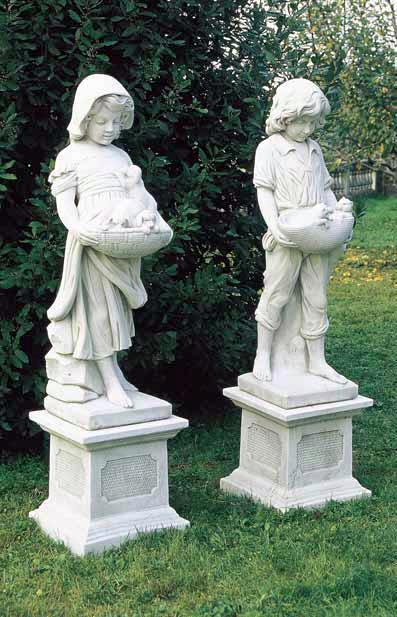person-like: (42, 67, 174, 413), (248, 75, 357, 388)
